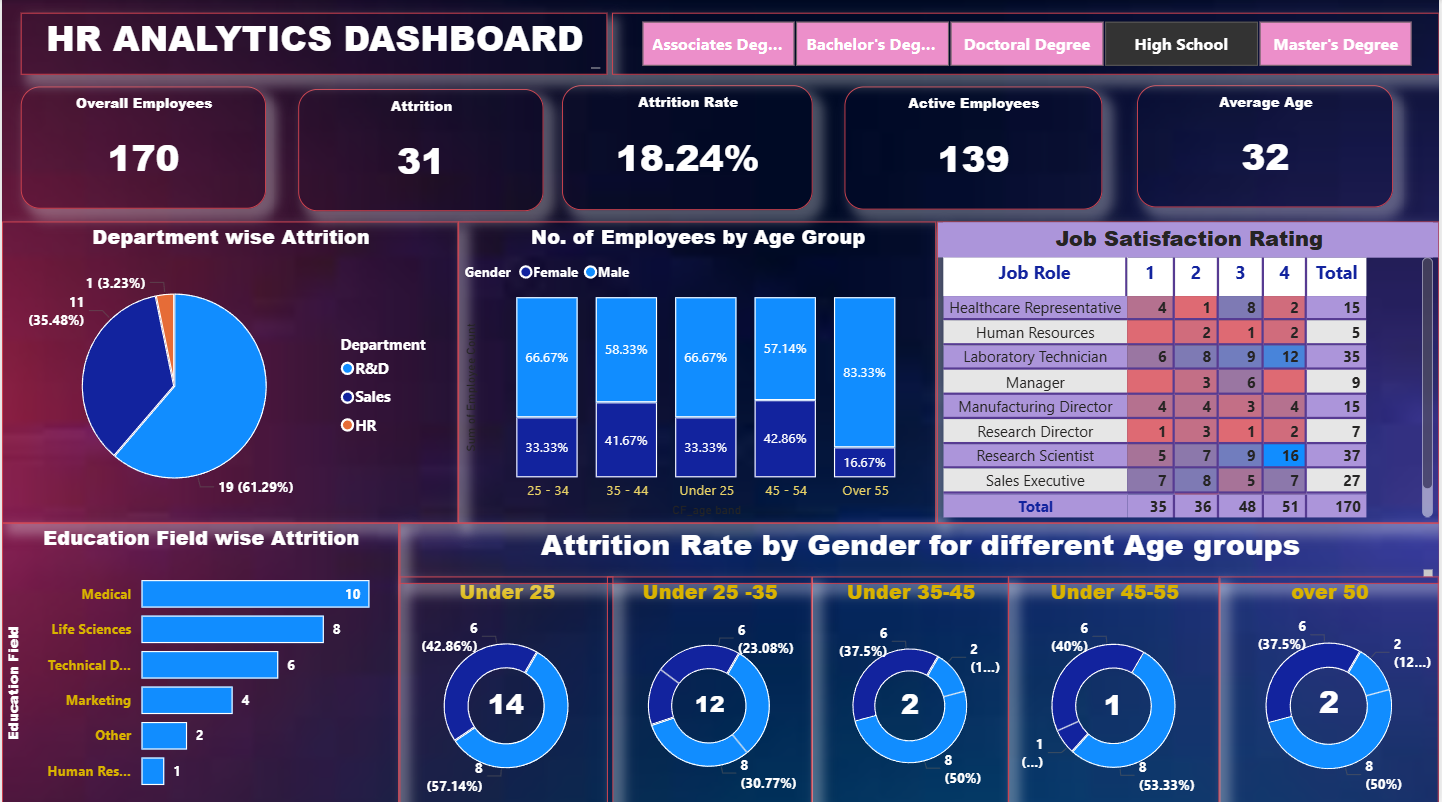

This screenshot's page, from the dashboard's own definition file:
{"tool":"powerbi","page":{"name":"Page 1","canvas":[1280,720],"ordinal":0},"visuals":[{"type":"card","title":"Overall Employees","fields":{"Values":["Sum(Table_1.Employee Count)"]},"box":[16.9,78.4,218.4,108.6],"z":0},{"type":"card","title":"Attrition","fields":{"Values":["Sum(Table_1.Attrition Count)"]},"box":[264.2,79.6,218.4,108.6],"z":1000},{"type":"card","title":"Attrition Rate ","fields":{"Values":["Table_1.Attrition Rate"]},"box":[498.3,77.2,223.2,111],"z":2000},{"type":"card","title":"Active Employees","fields":{"Values":["Table_1.Active Employees"]},"box":[750.4,78.4,229.2,109.8],"z":3000},{"type":"card","title":"Average Age","fields":{"Values":["Avg(Table_1.Age)"]},"box":[1011,77.2,228,108.6],"z":4000},{"type":"pieChart","title":"Department wise Attrition","fields":{"Category":["Table_1.Department"],"Y":["Sum(Table_1.Attrition Count)"]},"box":[0,197.9,406.6,269],"z":5000},{"type":"hundredPercentStackedColumnChart","title":"No. of Employees by Age Group","fields":{"Category":["Table_1.CF_age band"],"Y":["Sum(Table_1.Employee Count)"],"Series":["Table_1.Gender"]},"box":[406.6,197.9,425.9,269],"z":6000},{"type":"pivotTable","title":"Job Satisfaction Rating","fields":{"Rows":["Table_1.Job Role"],"Columns":["Table_1.Job Satisfaction"],"Values":["Sum(Table_1.Employee Count)"]},"box":[832.4,197.9,447.6,269],"z":7000},{"type":"barChart","title":"Education Field wise Attrition","fields":{"Category":["Table_1.Education Field"],"Y":["Sum(Table_1.Attrition Count)"]},"box":[0,466.9,353.5,253.4],"z":8000},{"type":"donutChart","title":"Under 25","fields":{"Category":["Table_1.Gender"],"Y":["Sum(Table_1.Attrition Count)"],"Series":["Table_1.CF_age band"]},"box":[353.5,513.9,190.6,206.3],"z":9000},{"type":"textbox","title":"Attrition Rate by Gender for different Age groups","box":[353.5,466.9,926.5,54.3],"z":10000},{"type":"donutChart","title":"Under 35-45","fields":{"Category":["Table_1.Gender"],"Y":["Sum(Table_1.Attrition Count)"],"Series":["Table_1.CF_age band"]},"box":[721.5,513.9,174.9,206.3],"z":11000},{"type":"donutChart","title":"Under 25 -35","fields":{"Category":["Table_1.Gender"],"Y":["Sum(Table_1.Attrition Count)"],"Series":["Table_1.CF_age band"]},"box":[539.3,513.9,182.2,206.3],"z":12000},{"type":"donutChart","title":"over 50","fields":{"Category":["Table_1.Gender"],"Y":["Sum(Table_1.Attrition Count)"],"Series":["Table_1.CF_age band"]},"box":[1084.6,513.9,195.4,206.3],"z":13000},{"type":"donutChart","title":"Under 45-55","fields":{"Category":["Table_1.Gender"],"Y":["Sum(Table_1.Attrition Count)"],"Series":["Table_1.CF_age band"]},"box":[896.4,513.9,188.2,206.3],"z":14000},{"type":"card","fields":{"Values":["Sum(Table_1.Attrition Count)"]},"box":[417.4,599.6,62.7,57.9],"z":15000},{"type":"card","fields":{"Values":["Sum(Table_1.Attrition Count)"]},"box":[596,599.6,70,59.1],"z":16000},{"type":"card","fields":{"Values":["Sum(Table_1.Attrition Count)"]},"box":[951.9,593.6,76,72.4],"z":17000},{"type":"card","fields":{"Values":["Sum(Table_1.Attrition Count)"]},"box":[1149.7,593.6,63.9,67.6],"z":18000},{"type":"card","fields":{"Values":["Sum(Table_1.Attrition Count)"]},"box":[764.9,610.5,88.1,37.4],"z":19000},{"type":"textbox","title":"HR ANALYTICS DASHBOARD","box":[16.9,12.1,522.4,55.5],"z":20000},{"type":"slicer","fields":{"Values":["Table_1.Education"]},"box":[542.9,12.1,737.1,55.5],"z":21000}]}

Visuals, with their boxes in screenshot pixels (x1, y1, x2, y2), scaled from the page's 1280x720 canvas onto the 1442x802 screenshot:
"Overall Employees" card: <region>19, 87, 265, 208</region>
"Attrition" card: <region>298, 89, 544, 210</region>
"Attrition Rate " card: <region>561, 86, 813, 210</region>
"Active Employees" card: <region>845, 87, 1104, 210</region>
"Average Age" card: <region>1139, 86, 1396, 207</region>
"Department wise Attrition" pieChart: <region>0, 220, 458, 520</region>
"No. of Employees by Age Group" hundredPercentStackedColumnChart: <region>458, 220, 938, 520</region>
"Job Satisfaction Rating" pivotTable: <region>938, 220, 1441, 520</region>
"Education Field wise Attrition" barChart: <region>0, 520, 398, 801</region>
"Under 25" donutChart: <region>398, 572, 613, 801</region>
"Attrition Rate by Gender for different Age groups" textbox: <region>398, 520, 1441, 581</region>
"Under 35-45" donutChart: <region>813, 572, 1010, 801</region>
"Under 25 -35" donutChart: <region>608, 572, 813, 801</region>
"over 50" donutChart: <region>1222, 572, 1441, 801</region>
"Under 45-55" donutChart: <region>1010, 572, 1222, 801</region>
card - Sum(Table_1.Attrition Count): <region>470, 668, 541, 732</region>
card - Sum(Table_1.Attrition Count): <region>671, 668, 750, 734</region>
card - Sum(Table_1.Attrition Count): <region>1072, 661, 1158, 742</region>
card - Sum(Table_1.Attrition Count): <region>1295, 661, 1367, 737</region>
card - Sum(Table_1.Attrition Count): <region>862, 680, 961, 722</region>
"HR ANALYTICS DASHBOARD" textbox: <region>19, 13, 608, 75</region>
slicer - Table_1.Education: <region>612, 13, 1441, 75</region>
